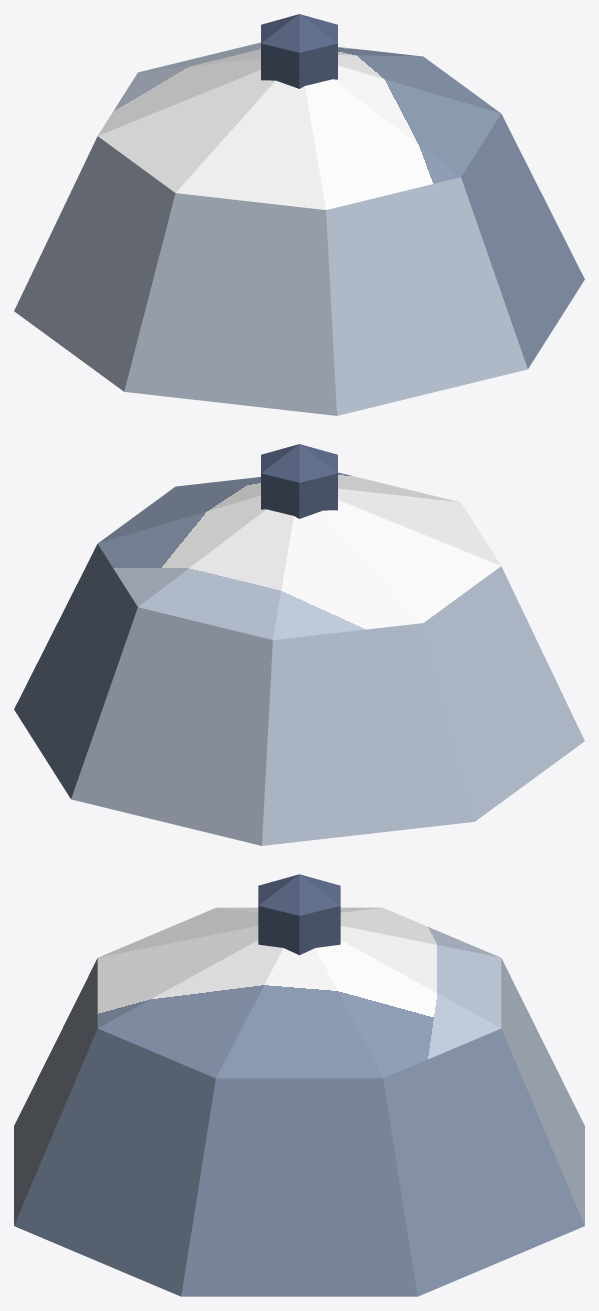
Rendered from NextNPC.gltf.
The picture shows the model from 3 angles, top to bottom: view 1: azimuth 30°, elevation 25°; view 2: azimuth 150°, elevation 25°; view 3: azimuth 270°, elevation 25°; orthographic projection. The views are drawn at different scales.
Parts seen in each view (by area): view 1: sphere; view 2: sphere; view 3: sphere.
Part boxes in pixels (x1=…): sphere: x1=14, y1=14, x2=584, y2=415; sphere: x1=14, y1=444, x2=584, y2=845; sphere: x1=14, y1=874, x2=584, y2=1296.
Size of the model in its own units: 0.1875 by 0.1094 by 0.1875.
Materials: 1 (1 with a texture image).
